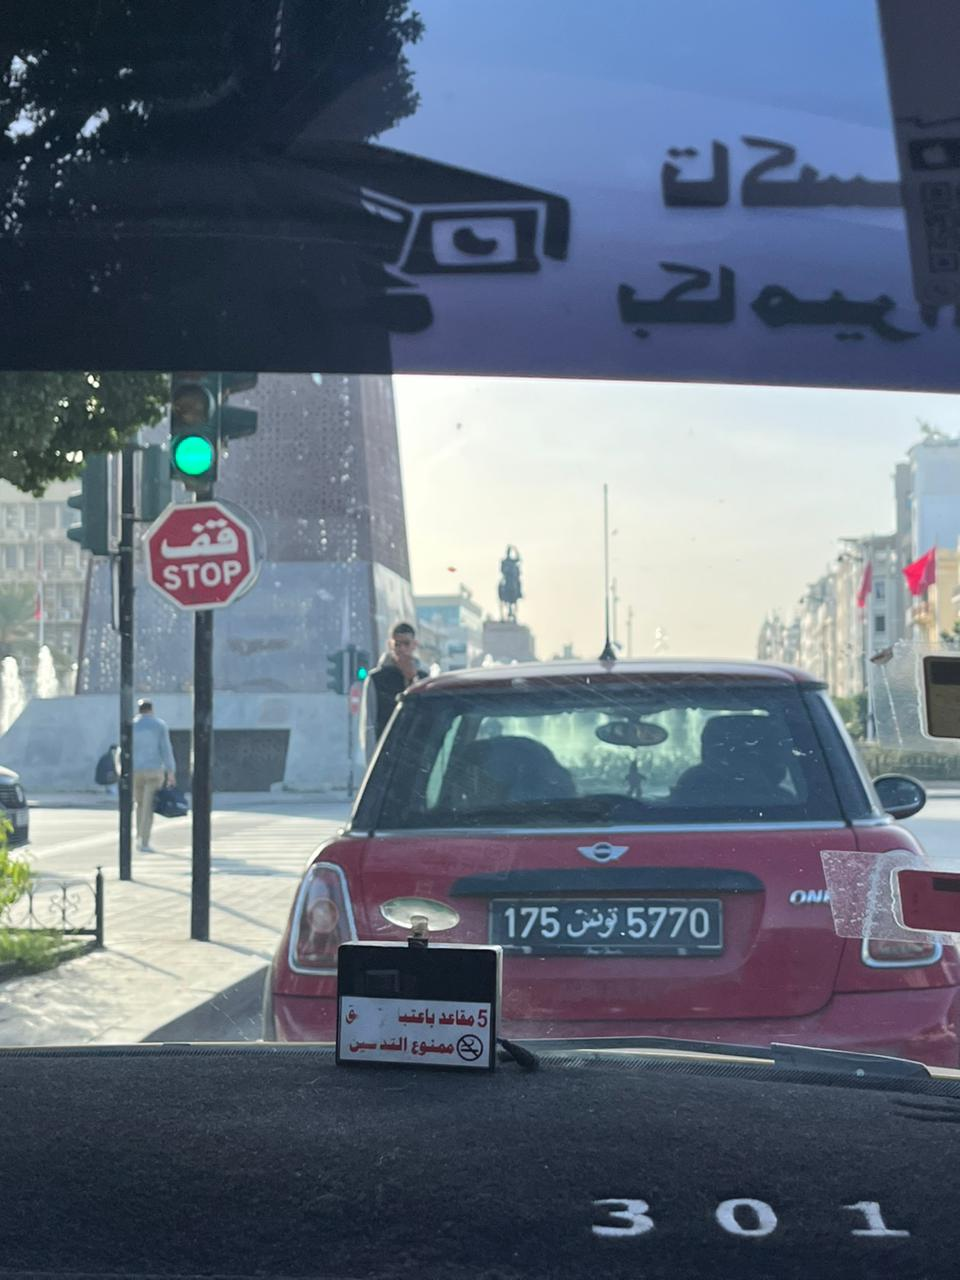GreenLight: (169, 374, 218, 482)
Stop: (143, 500, 255, 609)
